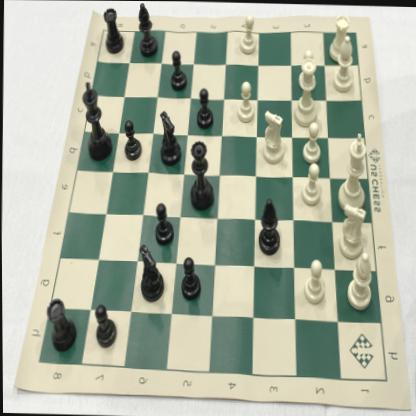black-bishop: (256, 194, 283, 257), (134, 1, 159, 61)
black-king: (79, 79, 115, 163)
black-knight: (134, 240, 165, 306), (158, 106, 182, 168)
black-pawn: (91, 299, 119, 351), (178, 253, 203, 301), (121, 115, 144, 164), (151, 201, 175, 247), (194, 84, 216, 133), (169, 47, 189, 93)
black-queen: (186, 135, 215, 214)
black-rook: (43, 294, 79, 354), (100, 4, 125, 58)
white-bishop: (344, 248, 374, 309), (330, 33, 356, 94)
white-king: (335, 127, 368, 212)
white-knight: (335, 201, 368, 261), (261, 108, 288, 167)
white-pawn: (301, 257, 326, 306), (299, 162, 324, 209), (237, 12, 259, 56), (296, 47, 318, 90), (235, 80, 256, 125), (301, 120, 322, 165)
white-queen: (290, 57, 323, 126)
white-rook: (327, 9, 352, 63)
